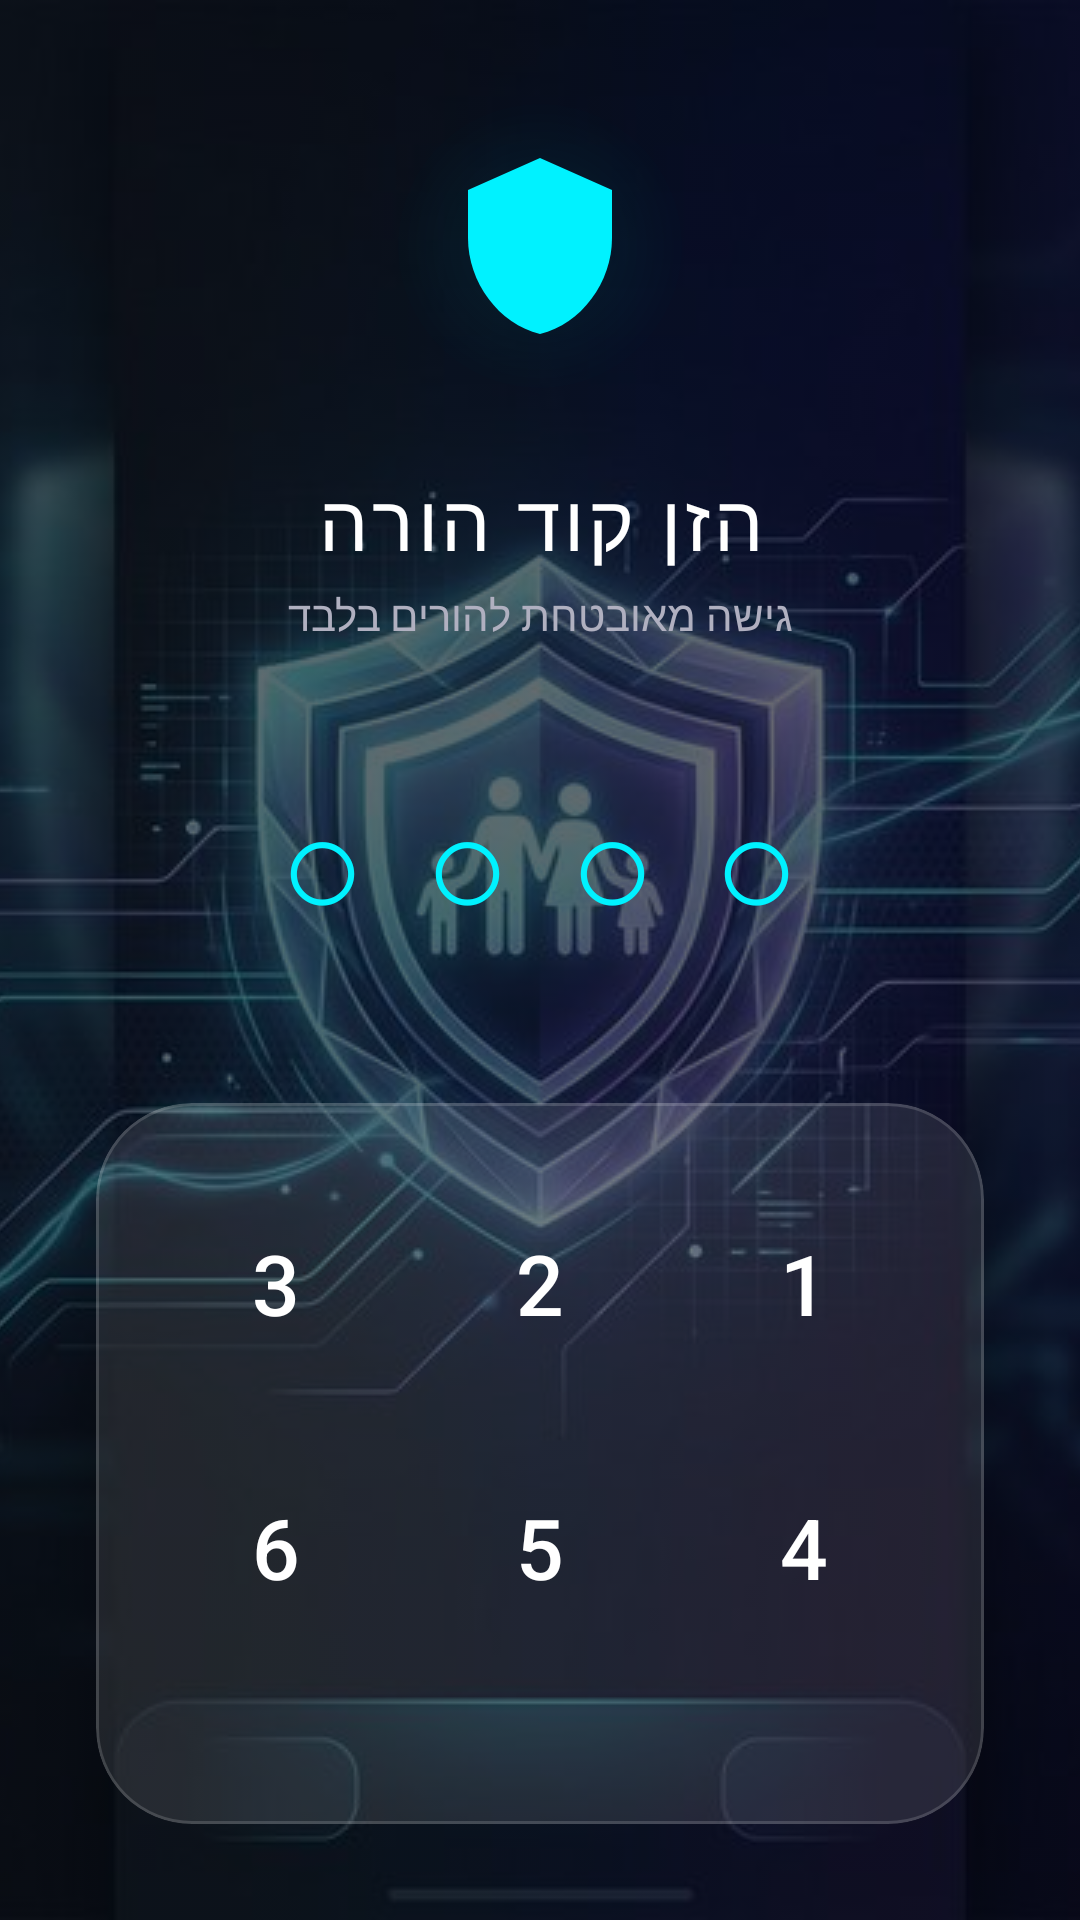

Icon click points for this 1080*1920 phone screenshot, format [x,y]:
security shield: [540,246]
